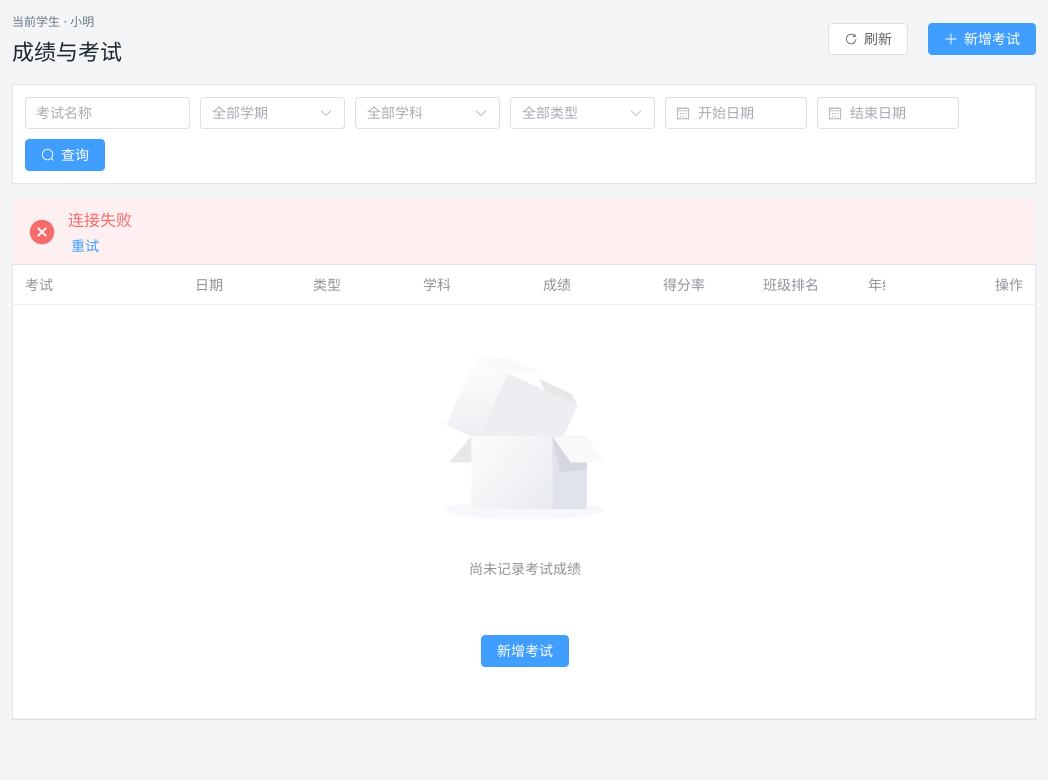
Test: ScoreView › keeps API errors visible and retries
Click the button "重试" at [85, 246], box [68,236,102,256]
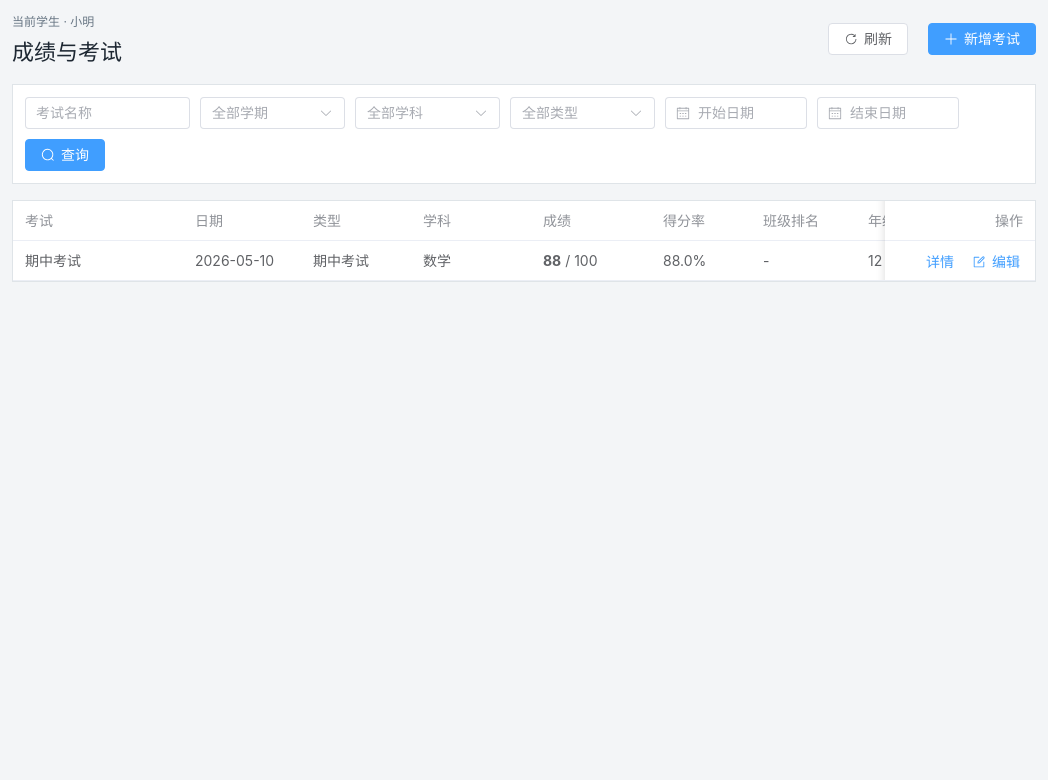
Now the text "期中考试" is shown, box [25,252,81,269]
